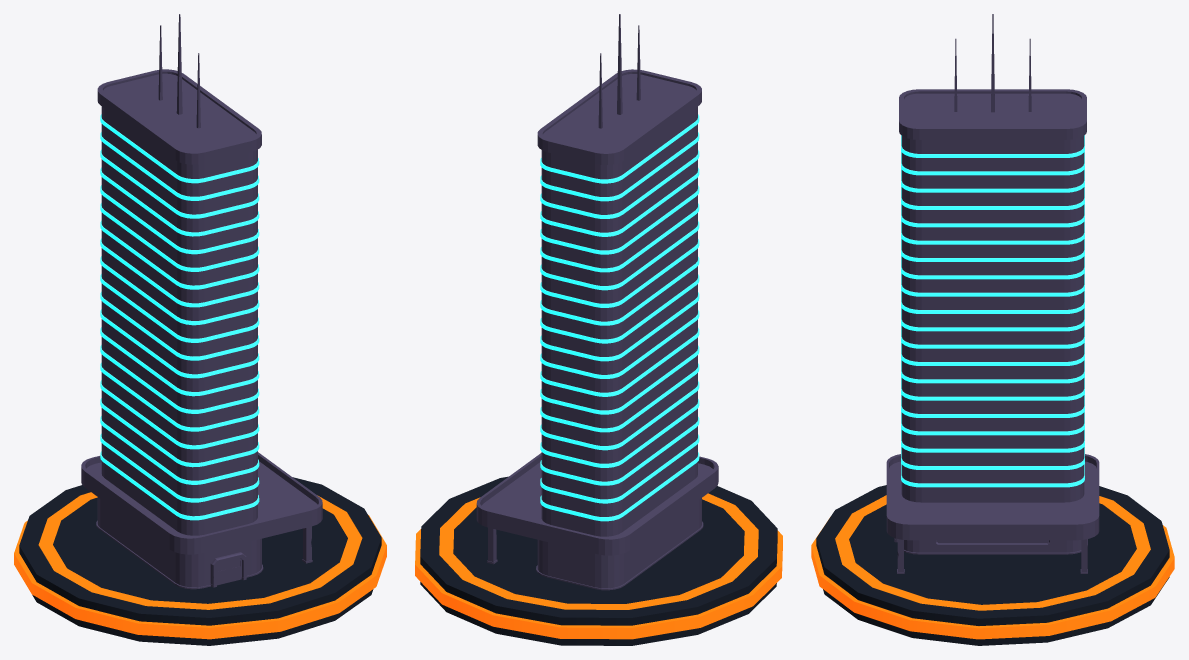
The model's file is House5.fbx.
The picture shows the model from 3 angles, left to right: view 1: azimuth 30°, elevation 25°; view 2: azimuth 150°, elevation 25°; view 3: azimuth 270°, elevation 25°; orthographic projection. The views are drawn at different scales.
Visible parts, largest first — view 1: House5; view 2: House5; view 3: House5.
Boxes of the visible parts, box(x1,y1,x2,y2) form: House5: box(14, 14, 386, 645); House5: box(415, 14, 782, 645); House5: box(811, 14, 1174, 645).
Size of the model in its own units: 3090 by 5264 by 3090.
